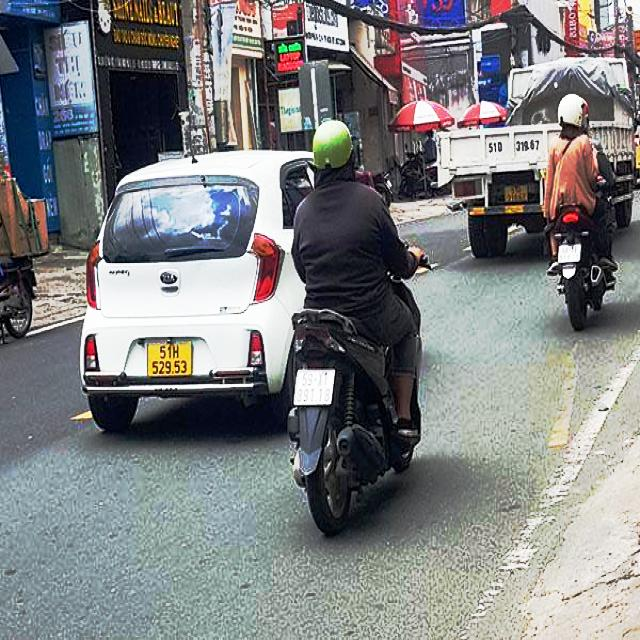license_plate: (295, 371, 337, 407), (149, 343, 193, 377)
